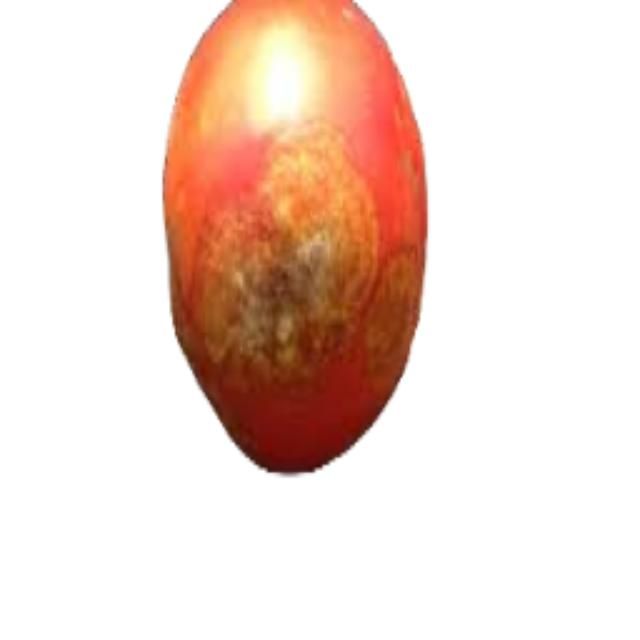defect: (158, 2, 434, 473)
